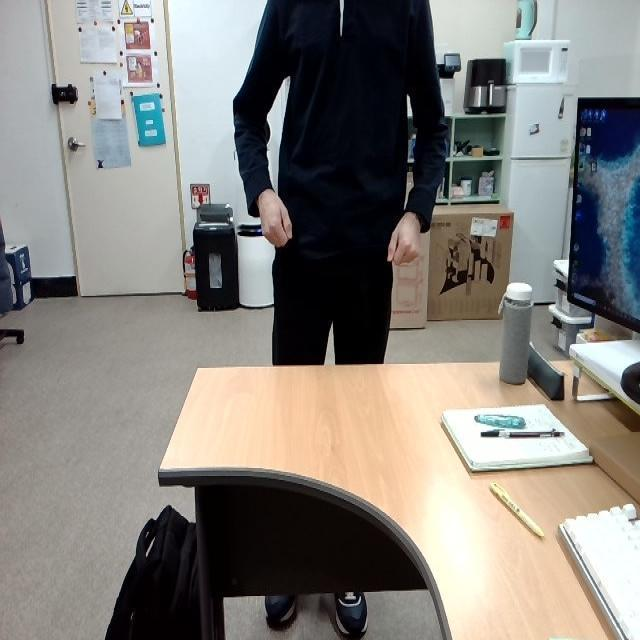bare_hand: (249, 179, 301, 251), (377, 202, 424, 271)
